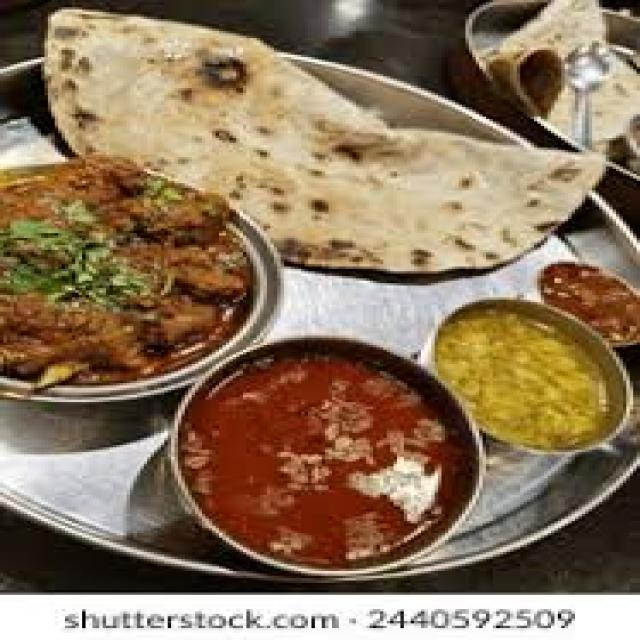ROTI: (34, 5, 589, 264)
